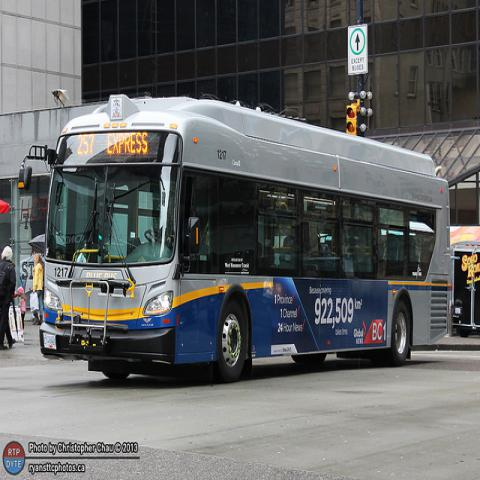bus: (42, 94, 452, 380)
